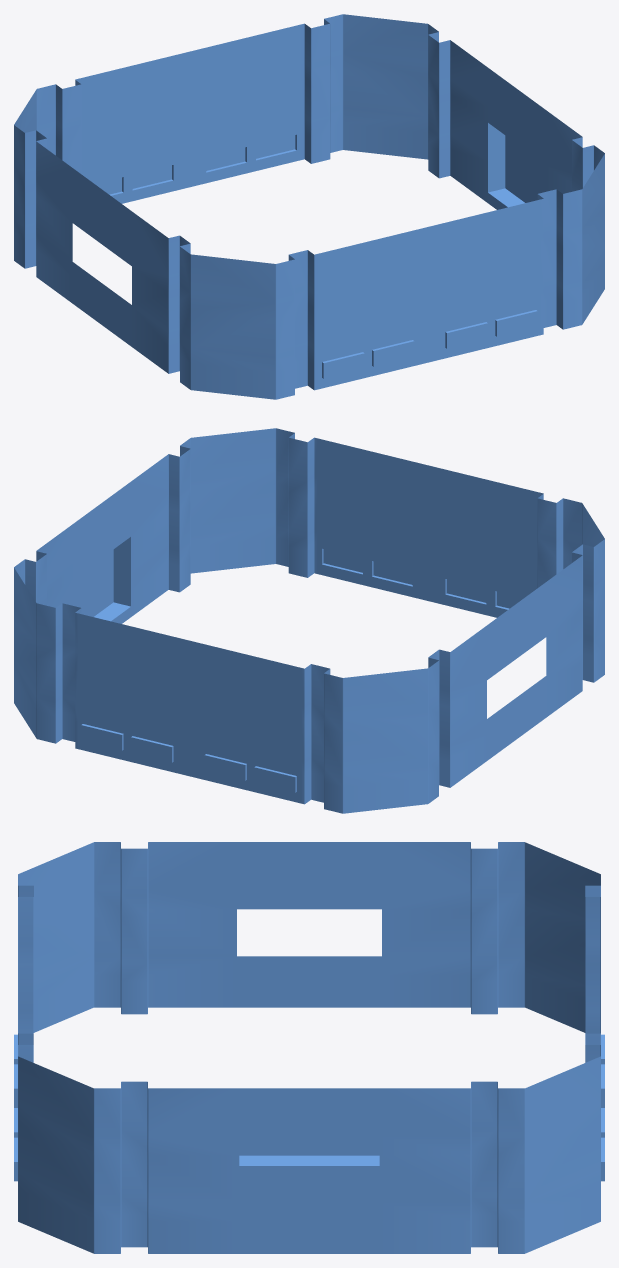
File: walls_v6.fbx
3 views of the same model, one above another, from view 1: azimuth 30°, elevation 25°; view 2: azimuth 150°, elevation 25°; view 3: azimuth 270°, elevation 25° (orthographic). The views are drawn at different scales.
Parts seen in each view (by area): view 1: Walls; view 2: Walls; view 3: Walls.
Part boxes in pixels (<box>): Walls: <box>14,14,604,399</box>; Walls: <box>14,428,604,813</box>; Walls: <box>14,842,604,1253</box>.
Bounding box in the file's own units: 1048 × 315 × 1020.
